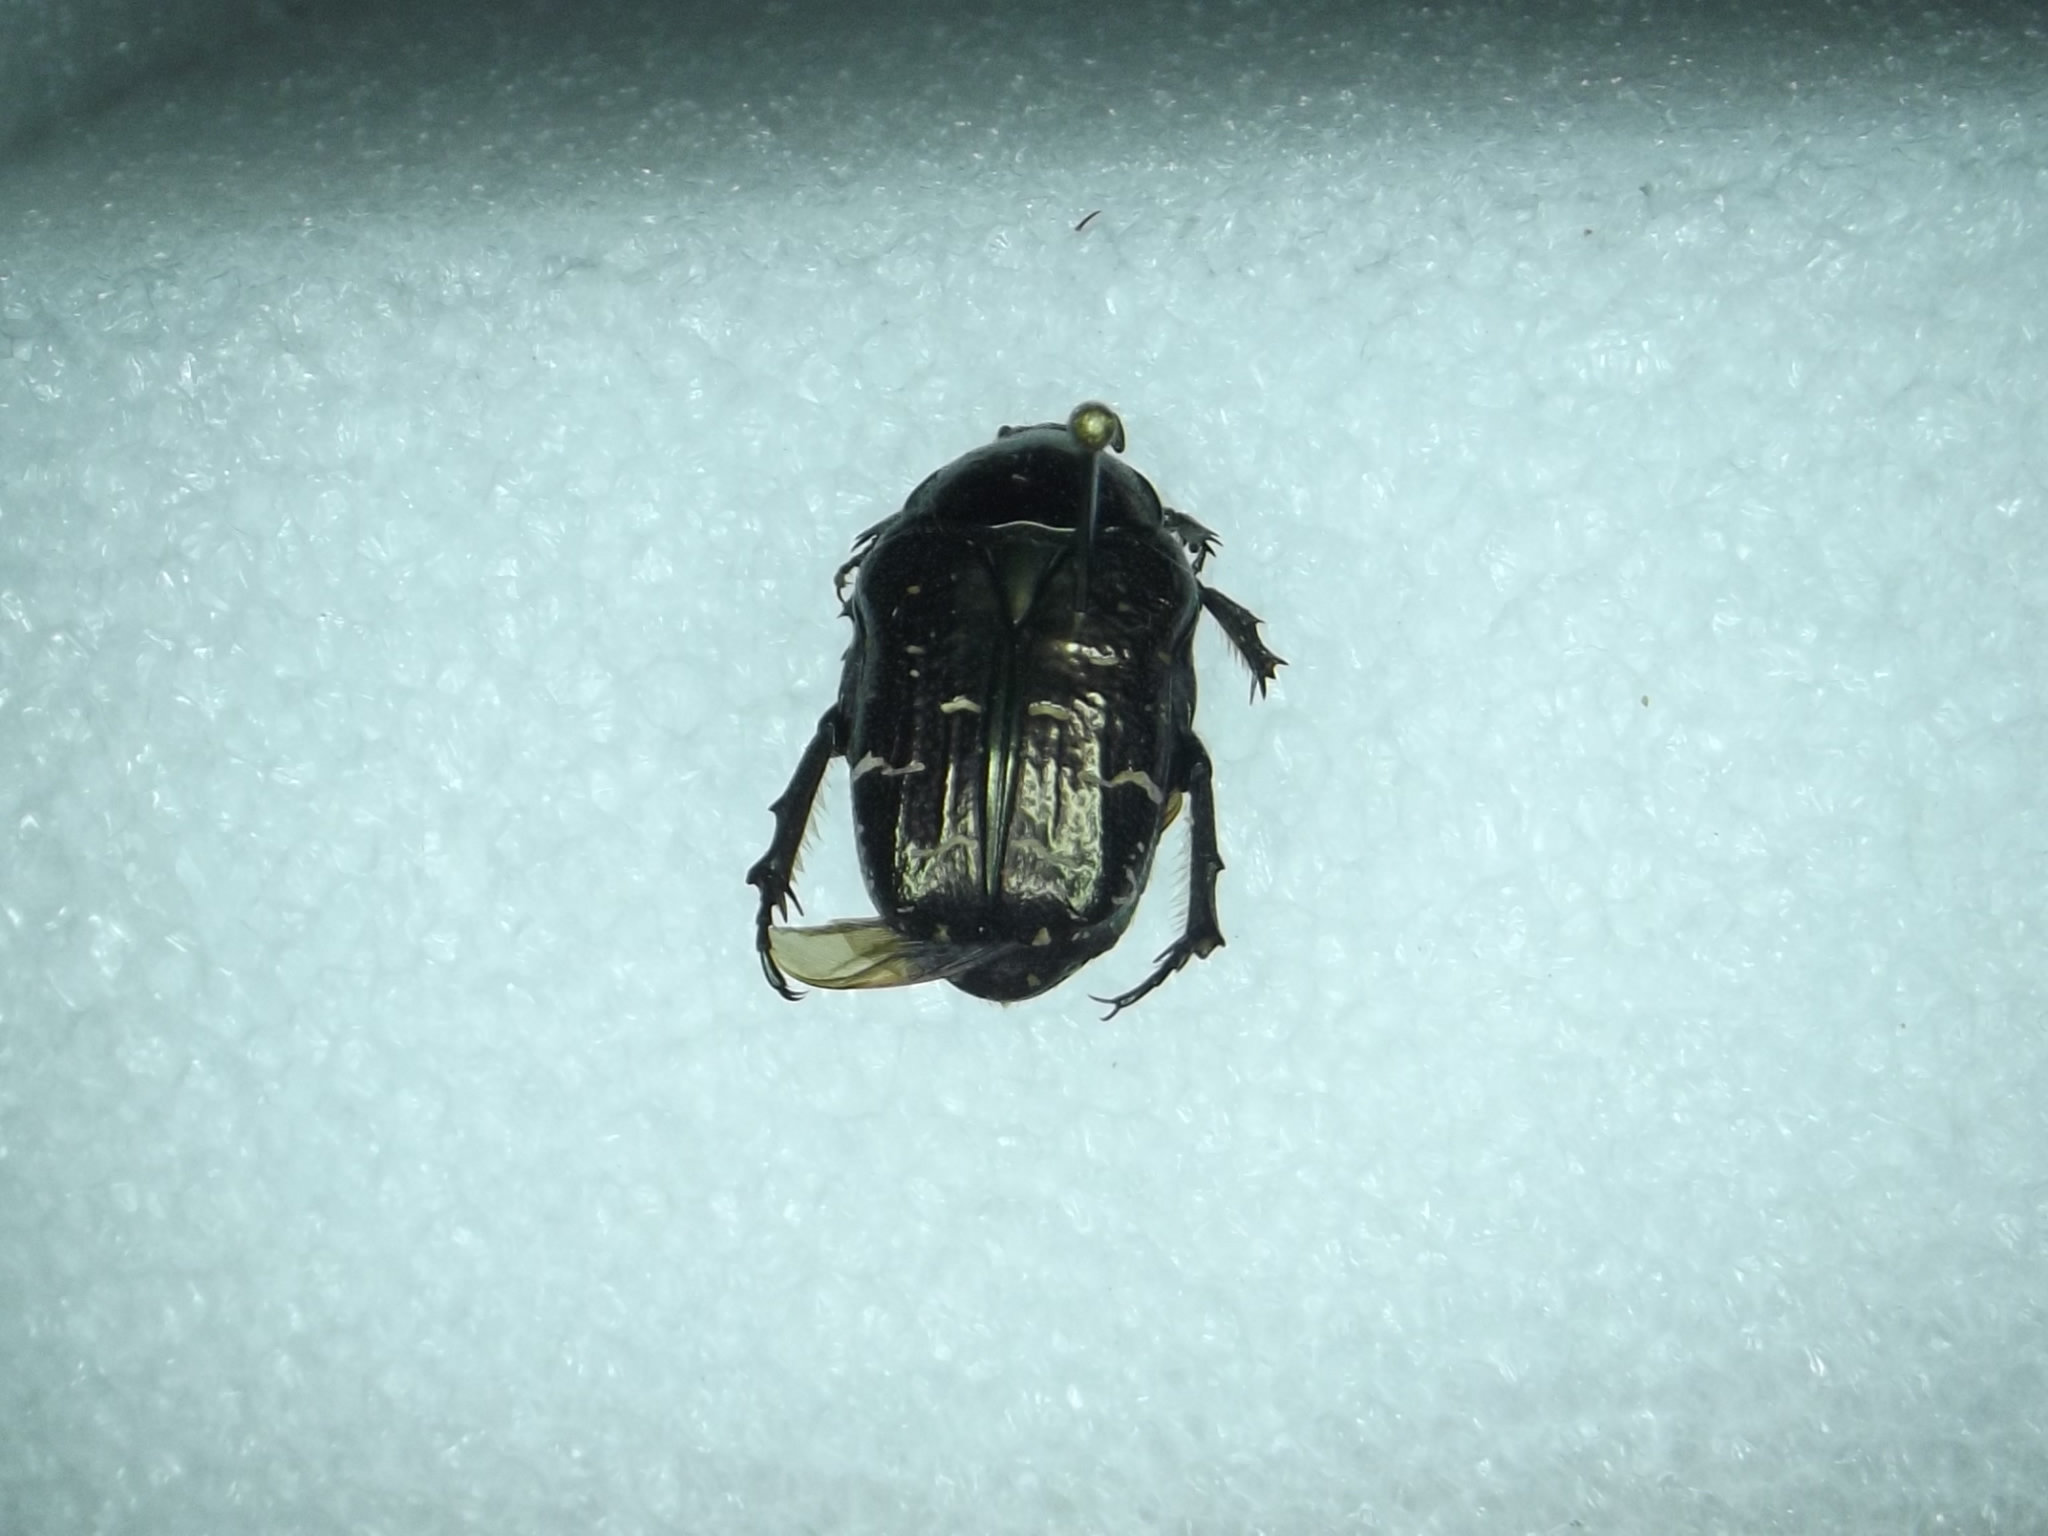Cetonia_kemali: (722, 390, 1298, 1037)
